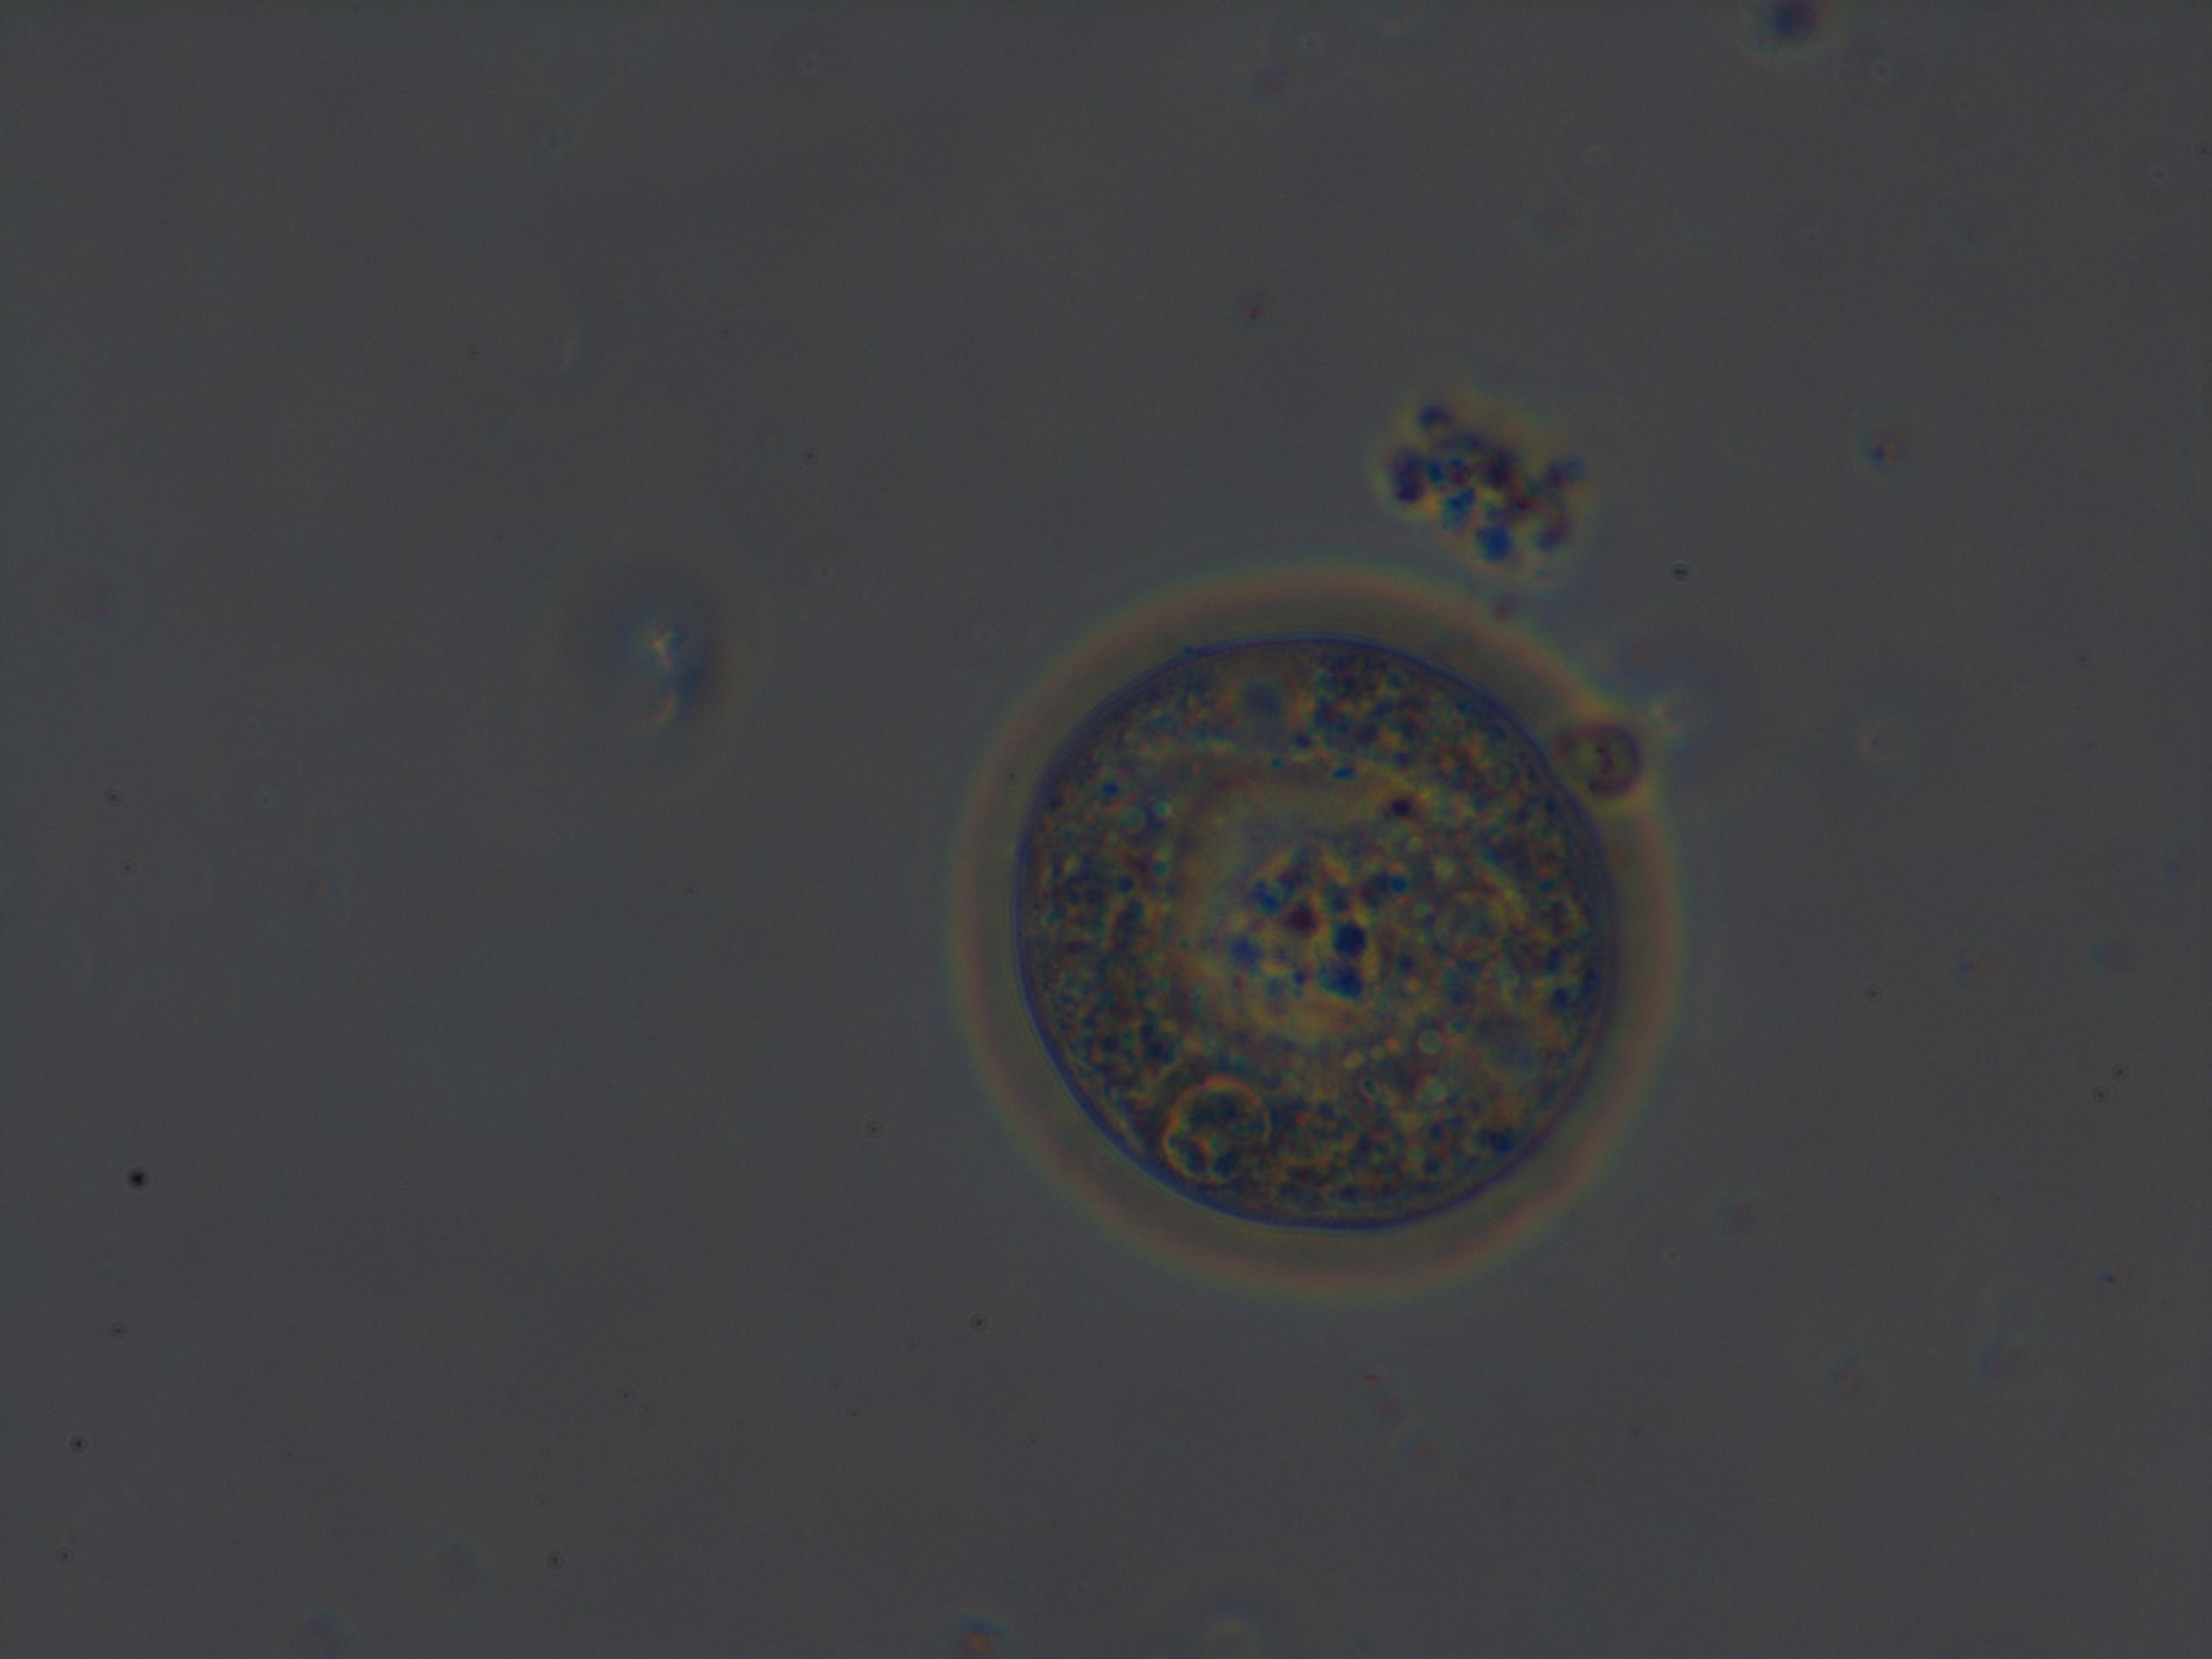protozoa: (918, 542, 1724, 1314)
